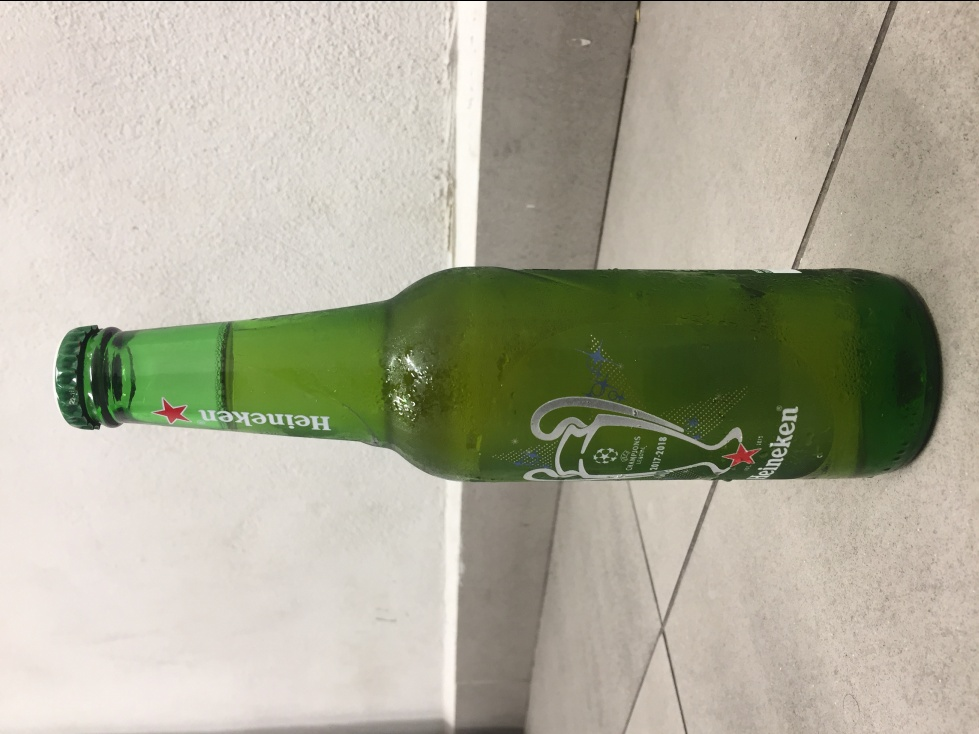heineken: (54, 265, 945, 485)
